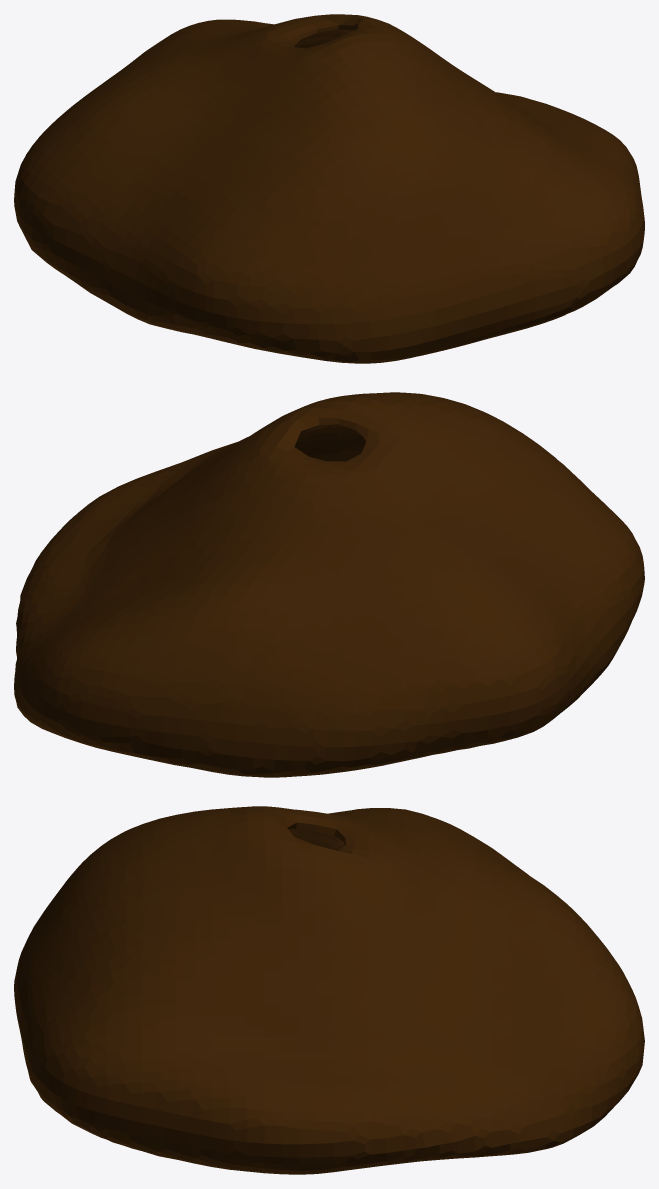
Rendered from AntHillLowPoly.fbx.
3 renders of one model, top to bottom at view 1: azimuth 30°, elevation 25°; view 2: azimuth 150°, elevation 25°; view 3: azimuth 270°, elevation 25°, orthographic. The views are drawn at different scales.
Visible parts, largest first — view 1: Cylinder; view 2: Cylinder; view 3: Cylinder.
Boxes of the visible parts, box(x1,y1,x2,y2) form: Cylinder: box(14, 14, 644, 363); Cylinder: box(14, 392, 644, 777); Cylinder: box(14, 806, 644, 1174).
Bounding box in the file's own units: 423 × 198 × 429.
